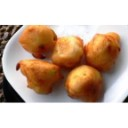bonda: (17, 60, 59, 93), (68, 63, 103, 100), (20, 26, 58, 59), (86, 31, 120, 64), (52, 35, 85, 66)
